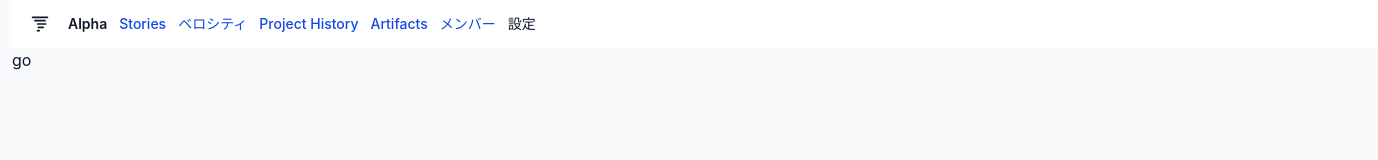
Test case: revalidates the cached project name on navigation so renames show up
Check: the text with test id "project-nav-name" reads "Alpha", box [68,15,107,32]
Click the link "go": (22, 60) [12,50,31,70]
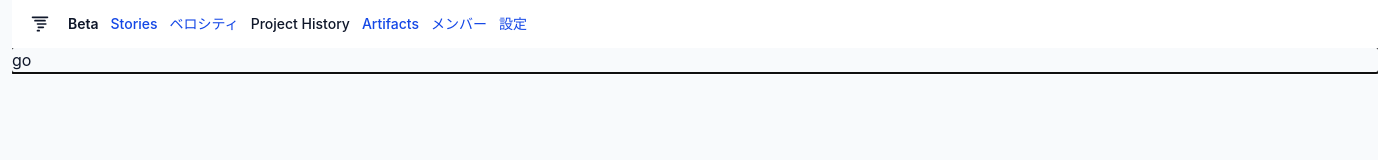
Check: the text with test id "project-nav-name" reads "Beta", box [68,15,99,32]
